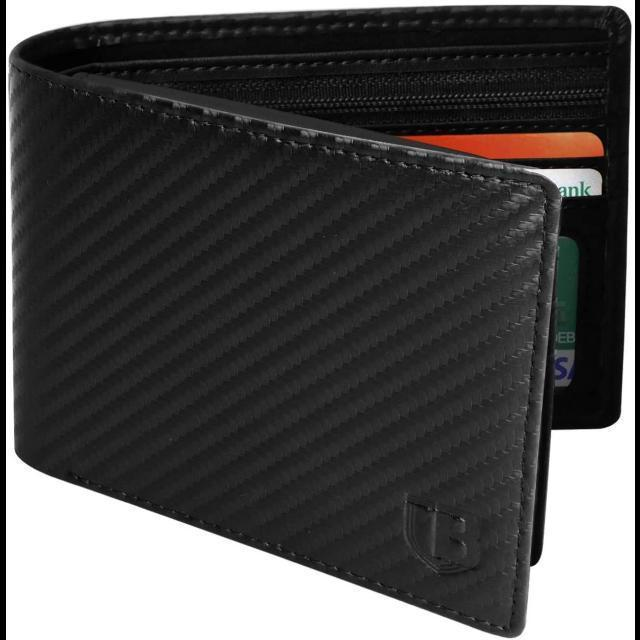wallet: (7, 5, 629, 637)
